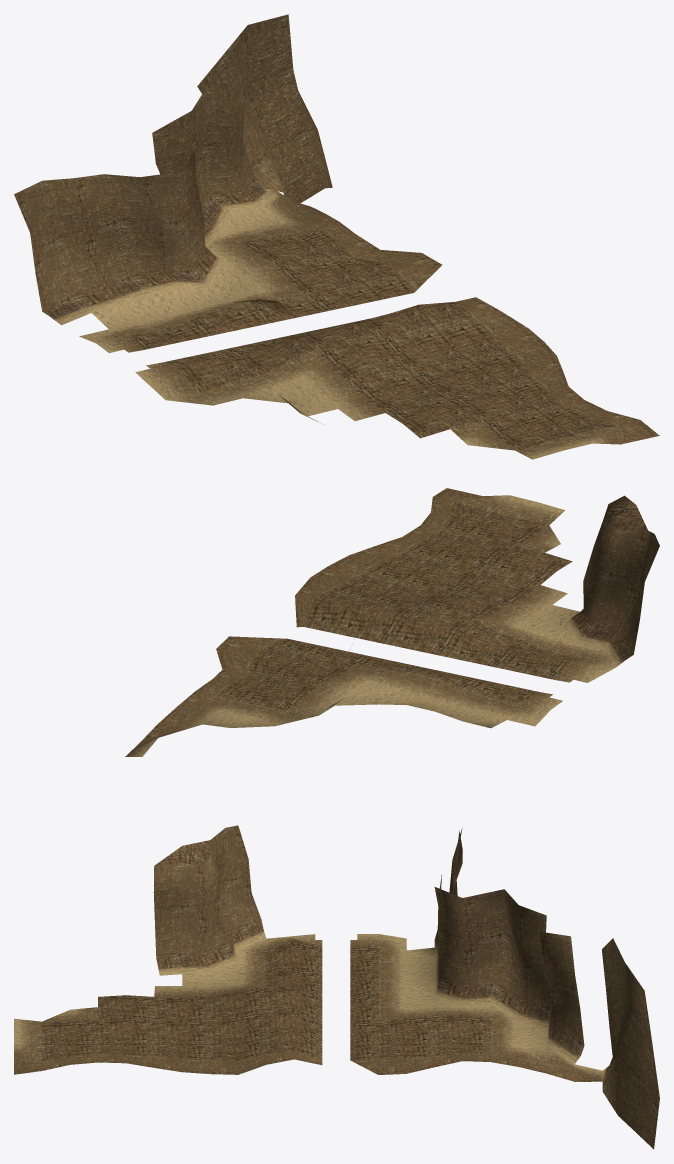
The model's file is M12B_Fake_Landscape.glb.
3 views of the same model, one above another, from view 1: azimuth 30°, elevation 25°; view 2: azimuth 150°, elevation 25°; view 3: azimuth 270°, elevation 25° (orthographic). The views are drawn at different scales.
Parts seen in each view (by area): view 1: M12B_FAKE_LANDSCAPE; view 2: M12B_FAKE_LANDSCAPE; view 3: M12B_FAKE_LANDSCAPE.
Part boxes in pixels (bbox=[...]): M12B_FAKE_LANDSCAPE: bbox=[14, 14, 659, 459]; M12B_FAKE_LANDSCAPE: bbox=[125, 488, 659, 756]; M12B_FAKE_LANDSCAPE: bbox=[14, 825, 659, 1149].
Bounding box in the file's own units: 58.17 × 26.46 × 92.16.
Materials: 11 (11 with a texture image).
